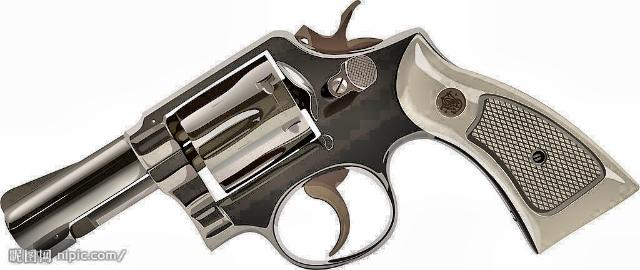pistol: (2, 0, 636, 268)
